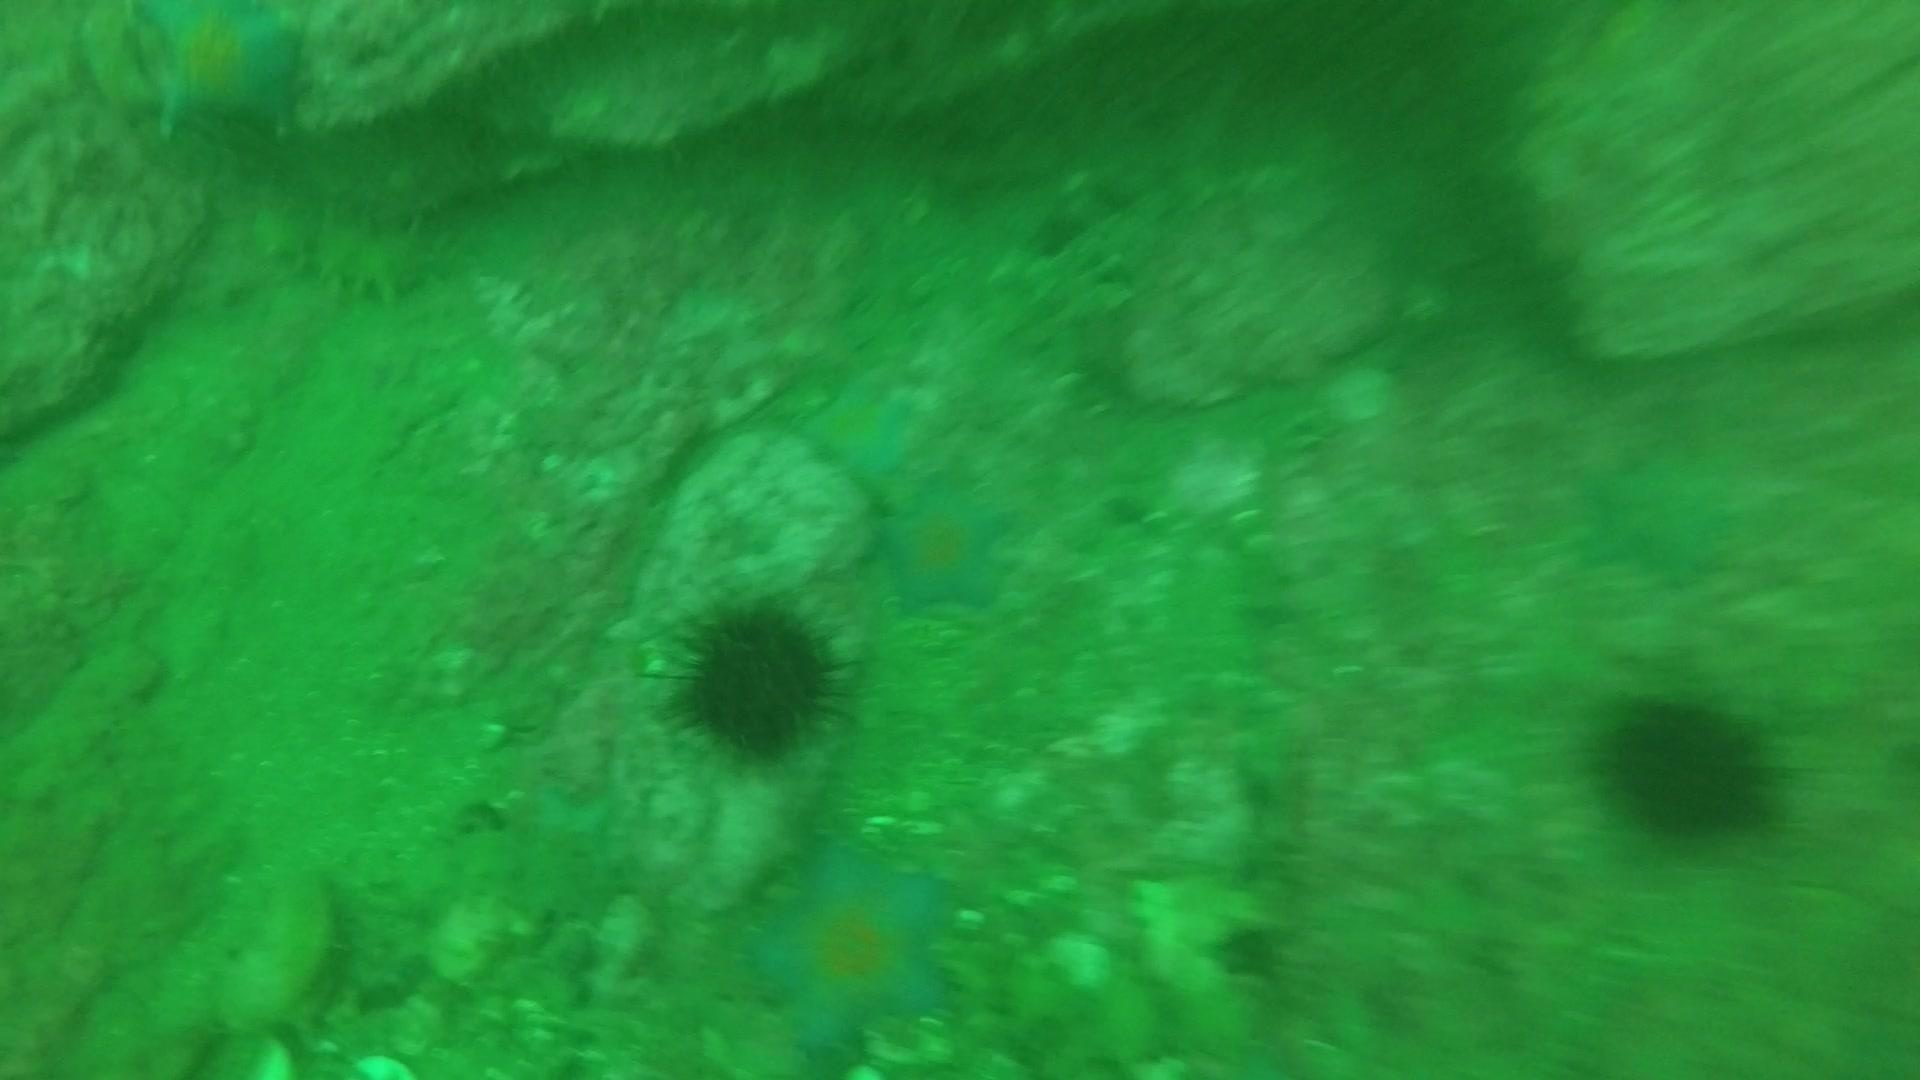echinus: (659, 591, 855, 766), (1589, 686, 1789, 848)
holothurian: (233, 193, 454, 309)
starfish: (741, 835, 965, 1065), (127, 1, 311, 144), (1569, 447, 1747, 587), (872, 477, 1018, 620), (795, 367, 927, 491)
